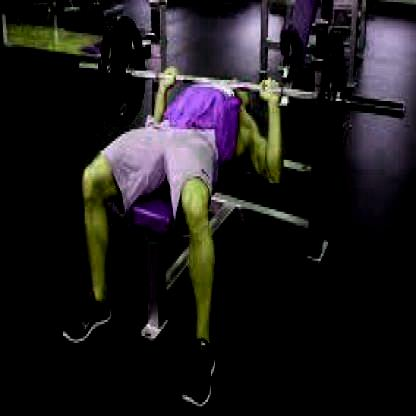Barbell: (393, 95, 408, 125)
